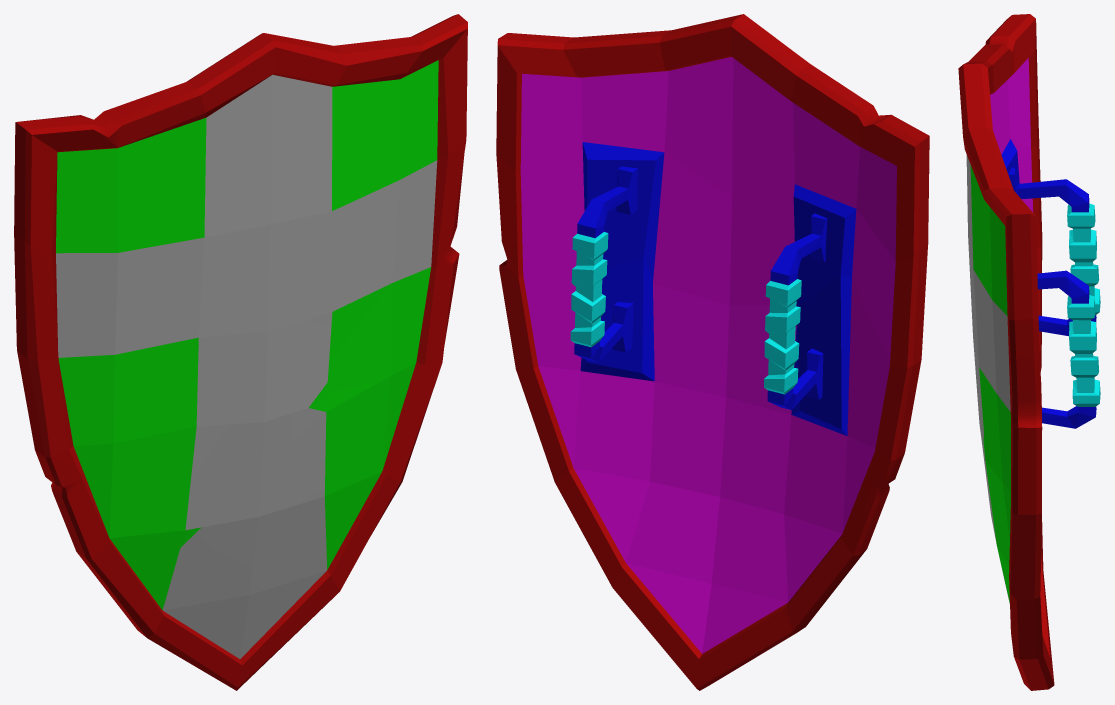
Rendered from Sheild_Common_Heraldic_04.fbx.
3 renders of one model, left to right at view 1: azimuth 30°, elevation 25°; view 2: azimuth 150°, elevation 25°; view 3: azimuth 270°, elevation 25°, orthographic. The views are drawn at different scales.
Visible parts, largest first — view 1: SM_Wep_Shield_08; view 2: SM_Wep_Shield_08; view 3: SM_Wep_Shield_08.
Part boxes in pixels (bbox=[...]): SM_Wep_Shield_08: bbox=[14, 14, 467, 690]; SM_Wep_Shield_08: bbox=[496, 14, 929, 690]; SM_Wep_Shield_08: bbox=[958, 14, 1100, 690].
Bounding box in the file's own units: 66.84 × 97.74 × 20.07.
